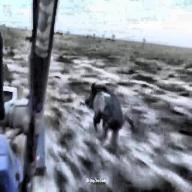boar: (74, 76, 132, 144)
